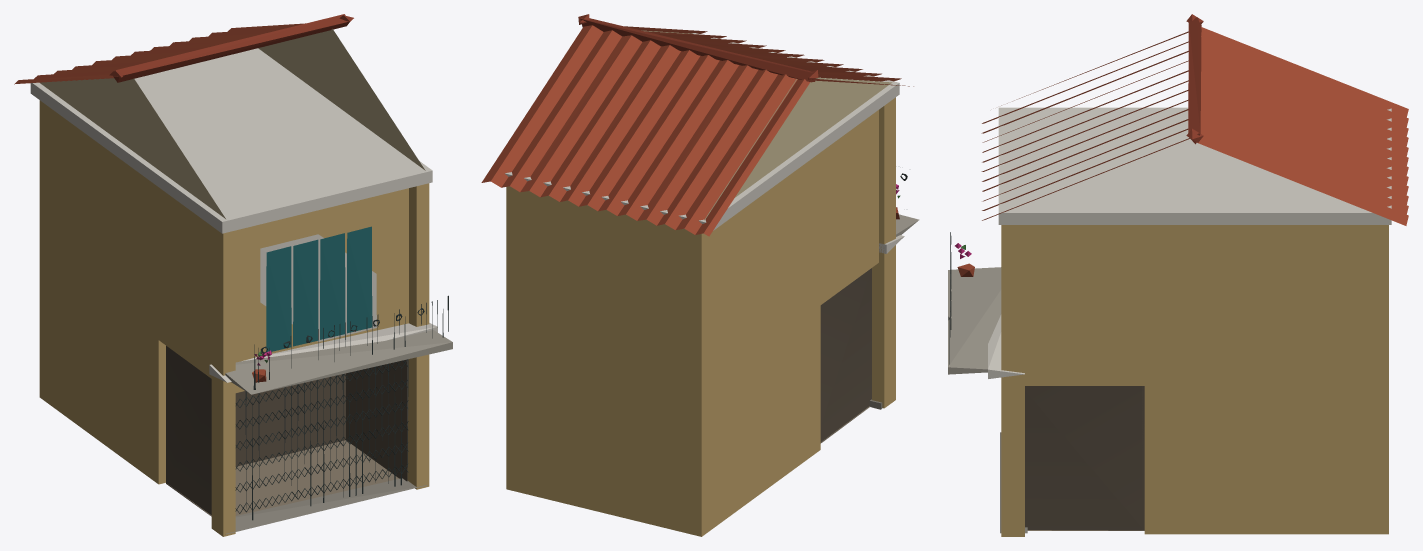
File: nha_C.glb
3 views of the same model, side by side, from view 1: azimuth 30°, elevation 25°; view 2: azimuth 150°, elevation 25°; view 3: azimuth 270°, elevation 25° (orthographic). The views are drawn at different scales.
Visible parts, largest first — view 1: nha_C; view 2: nha_C; view 3: nha_C.
Boxes of the visible parts, x1,y1,x2,y2 form: nha_C: (14, 14, 452, 536); nha_C: (481, 14, 919, 536); nha_C: (948, 14, 1408, 536).
Bounding box in the file's own units: 5.41 × 8.58 × 8.67.
